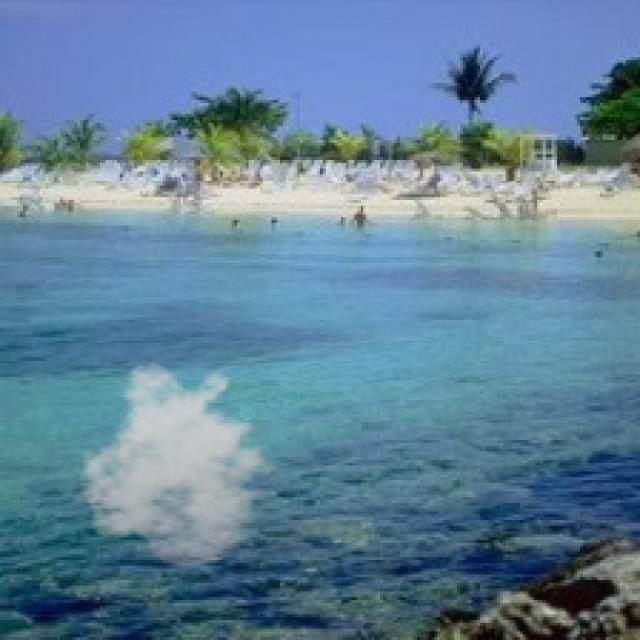Smoke: (71, 361, 292, 568)
